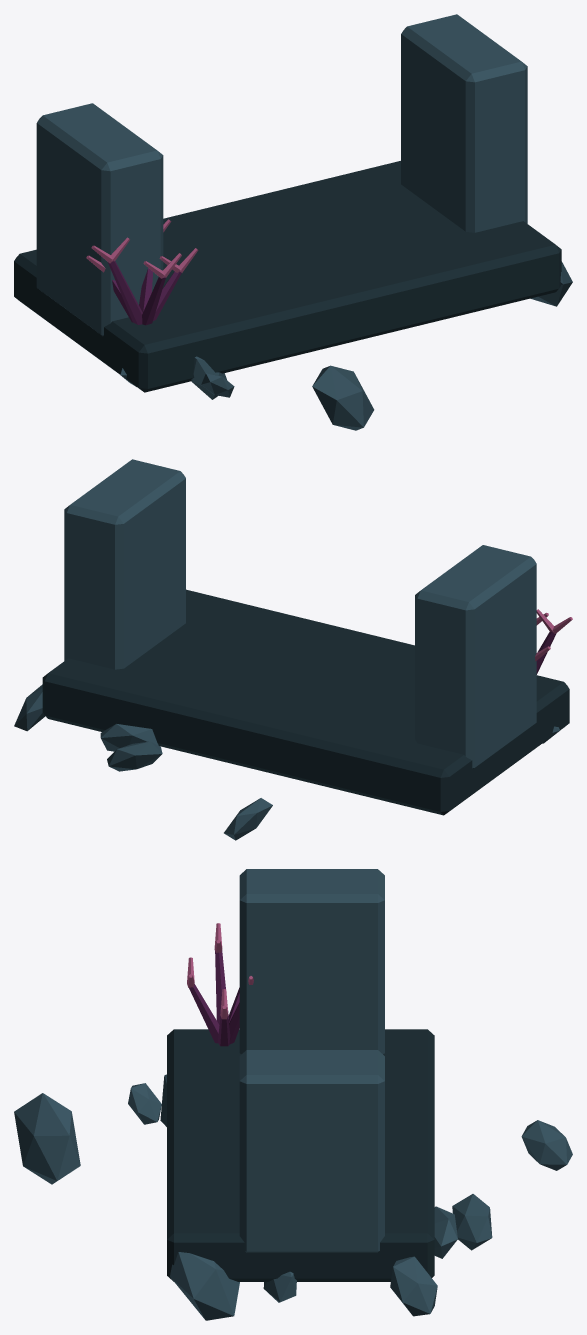
The model's file is 04_sunken_rotor_base.obj.
3 views of the same model, one above another, from view 1: azimuth 30°, elevation 25°; view 2: azimuth 150°, elevation 25°; view 3: azimuth 270°, elevation 25° (orthographic). The views are drawn at different scales.
Parts seen in each view (by area): view 1: 04_sunken_rotor_base; view 2: 04_sunken_rotor_base; view 3: 04_sunken_rotor_base.
Part boxes in pixels (bbox=[...]): 04_sunken_rotor_base: bbox=[14, 14, 572, 430]; 04_sunken_rotor_base: bbox=[14, 459, 572, 840]; 04_sunken_rotor_base: bbox=[14, 869, 572, 1320].
Bounding box in the file's own units: 7.32 × 3.46 × 7.31.
1 material, 1 textured.
